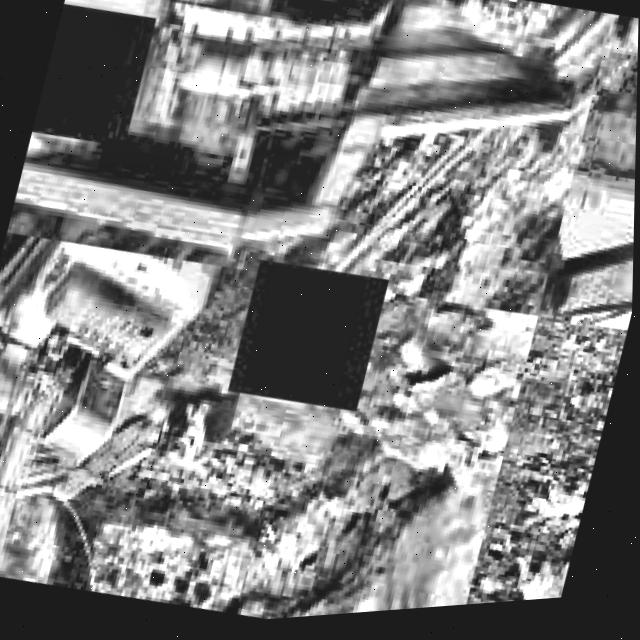dump_truck: (9, 0, 598, 336)
excavator: (0, 219, 220, 608), (0, 262, 263, 561)
